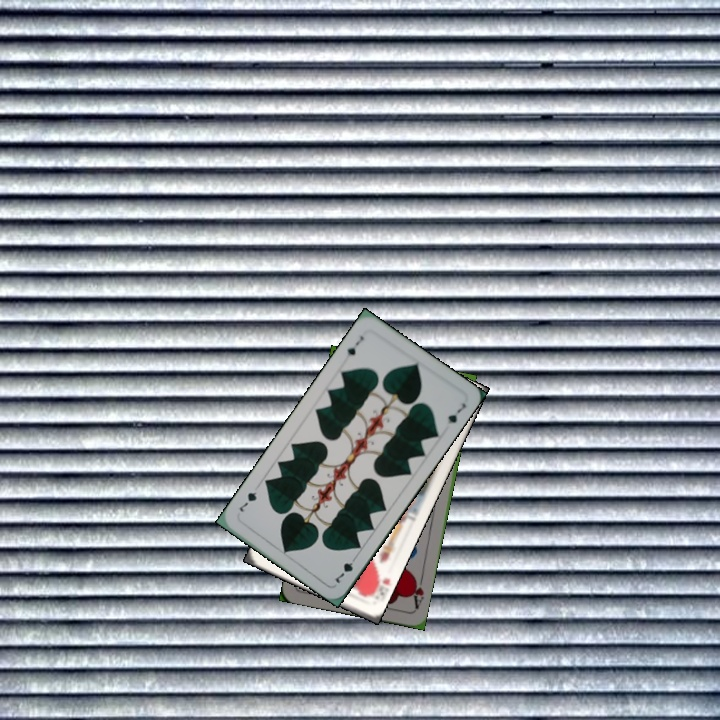G7: (331, 551, 360, 586), (340, 331, 366, 362)
HA: (406, 572, 426, 612)
HK: (364, 570, 393, 599)
